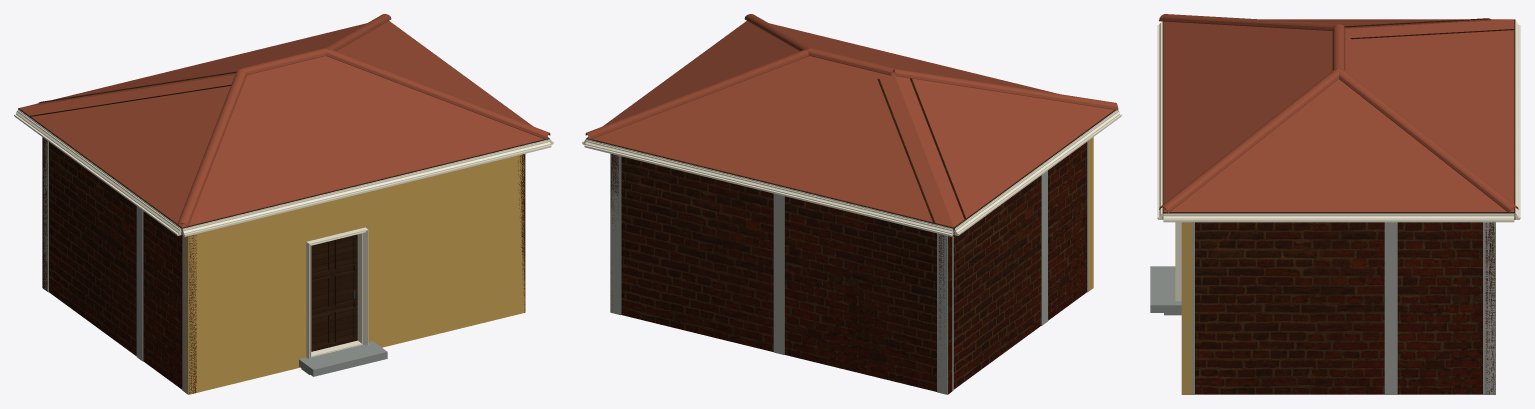
File: building.glb
The picture shows the model from 3 angles, left to right: view 1: azimuth 30°, elevation 25°; view 2: azimuth 150°, elevation 25°; view 3: azimuth 270°, elevation 25°; orthographic projection. The views are drawn at different scales.
Parts seen in each view (by area): view 1: house:0/edge0/z0/house:0/edge0/z0/wall_0_0, house:0/edge3/z0/house:0/edge3/z0/wall_0_0, roof_assembly/cubierta/roof_edge_cornice#0003, roof_assembly/cubierta/roof_edge_cornice#0001, site/entrance/0/entrance_step#0002, house:0/edge3/z0/house:0/edge3/z0/column_2_0, house:0/edge3/z0/house:0/edge3/z0/column_1_0, house:0/edge0/z0/opening_u2.80_v0.12/door_panel_back#0001, house:0/edge0/z0/opening_u2.80_v0.12/door_reveal#0001, house:0/edge3/z0/house:0/edge3/z0/column_0_0, house:0/edge0/z0/opening_u2.80_v0.12/door_moulding#0028, house:0/edge2/z0/house:0/edge2/z0/wall_0_0 (+8 smaller); view 2: house:0/edge2/z0/house:0/edge2/z0/wall_0_0, house:0/edge3/z0/house:0/edge3/z0/wall_0_0, roof_assembly/cubierta/roof_edge_cornice#0006, house:0/edge2/z0/house:0/edge2/z0/column_2_0, house:0/edge2/z0/house:0/edge2/z0/column_0_0, roof_assembly/cubierta/roof_edge_cornice#0001, house:0/edge2/z0/house:0/edge2/z0/column_1_0, house:0/edge3/z0/house:0/edge3/z0/column_2_0, house:0/edge0/z0/house:0/edge0/z0/wall_0_0, roof_assembly/cubierta/roof_fascia#0006; view 3: house:0/edge1/z0/house:0/edge1/z0/wall_0_0, roof_assembly/cubierta/roof_edge_cornice#0004, house:0/edge1/z0/house:0/edge1/z0/column_2_0, house:0/edge1/z0/house:0/edge1/z0/column_1_0, house:0/edge0/z0/house:0/edge0/z0/wall_0_0, site/entrance/0/entrance_step#0002, roof_assembly/cubierta/roof_edge_cornice#0006, roof_assembly/cubierta/roof_edge_cornice#0003, house:0/edge2/z0/house:0/edge2/z0/wall_0_0, house:0/edge1/z0/house:0/edge1/z0/column_0_0, roof_assembly/cubierta/roof_fascia#0004, house:0/edge0/z0/opening_u2.80_v0.12/door_moulding#0028 (+2 smaller).
Part boxes in pixels (<box>): house:0/edge0/z0/house:0/edge0/z0/wall_0_0: <box>183,154,525,394</box>; house:0/edge3/z0/house:0/edge3/z0/wall_0_0: <box>49,142,196,394</box>; roof_assembly/cubierta/roof_edge_cornice#0003: <box>182,139,551,236</box>; roof_assembly/cubierta/roof_edge_cornice#0001: <box>14,109,181,235</box>; site/entrance/0/entrance_step#0002: <box>299,341,387,376</box>; house:0/edge3/z0/house:0/edge3/z0/column_2_0: <box>136,206,143,361</box>; house:0/edge3/z0/house:0/edge3/z0/column_1_0: <box>182,236,188,394</box>; house:0/edge0/z0/opening_u2.80_v0.12/door_panel_back#0001: <box>311,240,353,342</box>; house:0/edge0/z0/opening_u2.80_v0.12/door_reveal#0001: <box>306,227,365,356</box>; house:0/edge3/z0/house:0/edge3/z0/column_0_0: <box>42,137,48,292</box>; house:0/edge0/z0/opening_u2.80_v0.12/door_moulding#0028: <box>306,227,368,359</box>; house:0/edge2/z0/house:0/edge2/z0/wall_0_0: <box>42,137,47,290</box>; house:0/edge2/z0/house:0/edge2/z0/wall_0_0: <box>621,156,952,394</box>; house:0/edge3/z0/house:0/edge3/z0/wall_0_0: <box>939,142,1086,389</box>; roof_assembly/cubierta/roof_edge_cornice#0006: <box>584,139,953,236</box>; house:0/edge2/z0/house:0/edge2/z0/column_2_0: <box>773,193,784,354</box>; house:0/edge2/z0/house:0/edge2/z0/column_0_0: <box>610,154,621,315</box>; roof_assembly/cubierta/roof_edge_cornice#0001: <box>953,110,1121,235</box>; house:0/edge2/z0/house:0/edge2/z0/column_1_0: <box>937,233,947,394</box>; house:0/edge3/z0/house:0/edge3/z0/column_2_0: <box>1041,170,1047,325</box>; house:0/edge0/z0/house:0/edge0/z0/wall_0_0: <box>1088,137,1093,291</box>; roof_assembly/cubierta/roof_fascia#0006: <box>587,138,953,233</box>; house:0/edge1/z0/house:0/edge1/z0/wall_0_0: <box>1195,222,1482,394</box>; roof_assembly/cubierta/roof_edge_cornice#0004: <box>1163,213,1514,222</box>; house:0/edge1/z0/house:0/edge1/z0/column_2_0: <box>1384,222,1397,394</box>; house:0/edge1/z0/house:0/edge1/z0/column_1_0: <box>1483,222,1495,394</box>; house:0/edge0/z0/house:0/edge0/z0/wall_0_0: <box>1181,222,1192,394</box>; site/entrance/0/entrance_step#0002: <box>1150,266,1181,312</box>; roof_assembly/cubierta/roof_edge_cornice#0006: <box>1514,20,1520,219</box>; roof_assembly/cubierta/roof_edge_cornice#0003: <box>1157,21,1163,219</box>; house:0/edge2/z0/house:0/edge2/z0/wall_0_0: <box>1485,222,1495,394</box>; house:0/edge1/z0/house:0/edge1/z0/column_0_0: <box>1181,222,1194,394</box>; roof_assembly/cubierta/roof_fascia#0004: <box>1163,212,1514,213</box>; house:0/edge0/z0/opening_u2.80_v0.12/door_moulding#0028: <box>1175,222,1181,301</box>.
Size of the model in its own units: 8.94 by 5.52 by 7.07.
9 materials, 2 textured.
